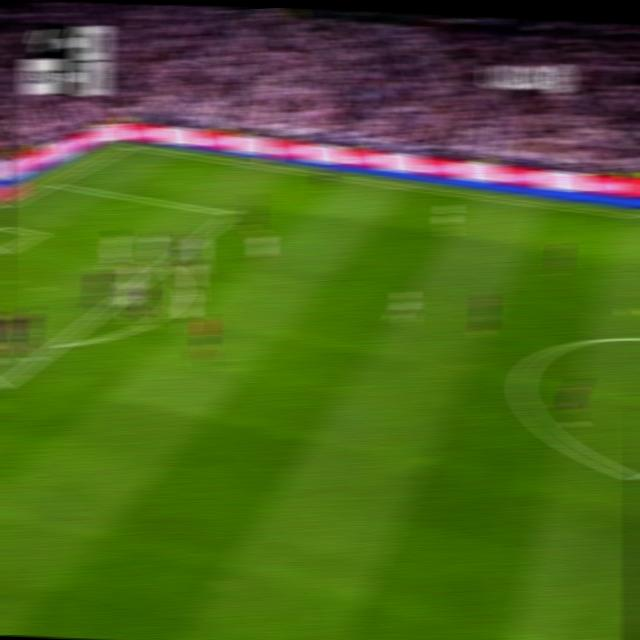bigarea_top_inner: (223, 205, 237, 221)
bigarea_top_outter: (48, 177, 59, 187)
bottom_arc_area_intersection: (51, 334, 68, 353)
corner: (120, 140, 136, 149)
smallarea_top_inner: (30, 227, 44, 238)
top_arc_area_intersection: (156, 255, 172, 271)
